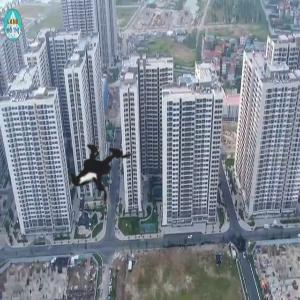drone: (31, 100, 161, 230)
